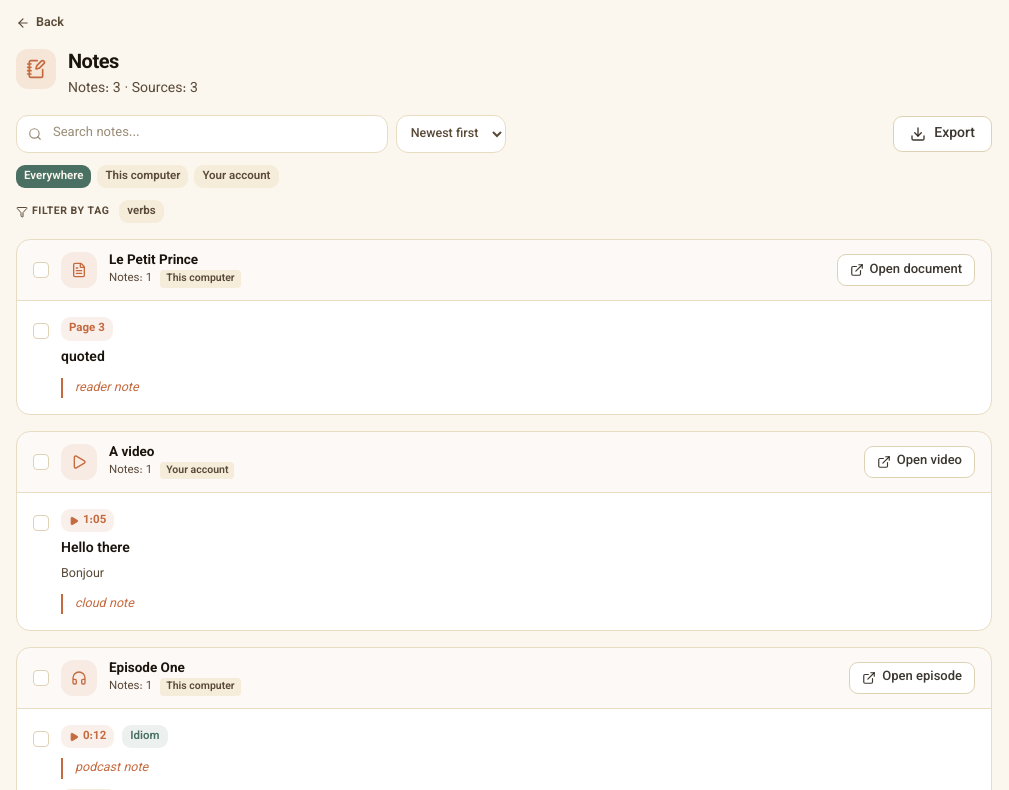
notes page › searches and filters by tag
Expected: the text "Episode One" is shown, [109,658,185,679]
Click the button "verbs": (142, 212) [119,200,164,223]
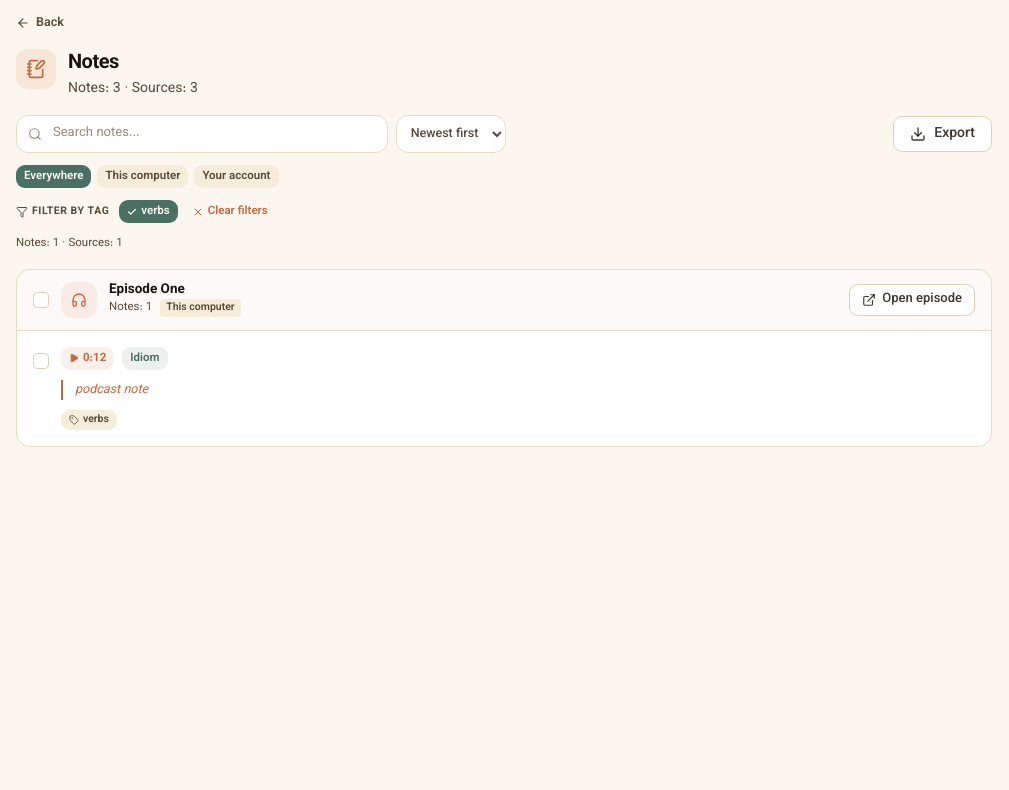
Expected: the text "Episode One" is shown, [109,279,185,300]
Expected: the text "Le Petit Prince" is gone
Click the button "Clear filters": (230, 212) [184,200,276,223]
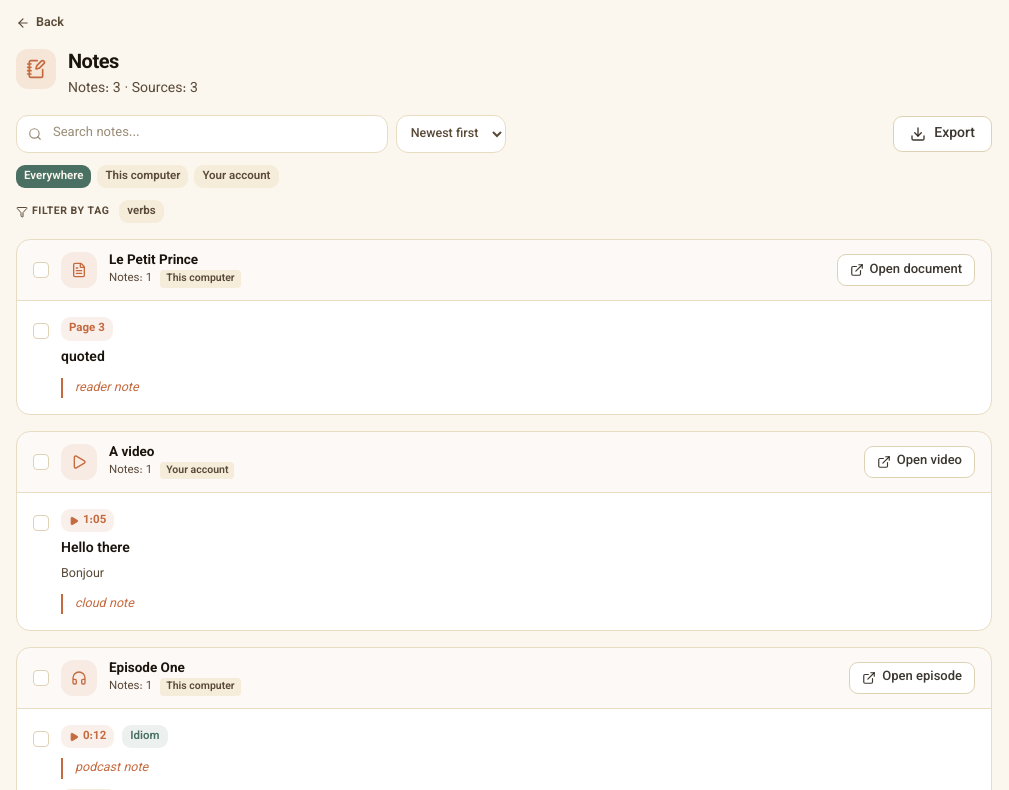
In the field with placeholder "Search notes...": (202, 134) [16,115,388,152], type "bonjour"
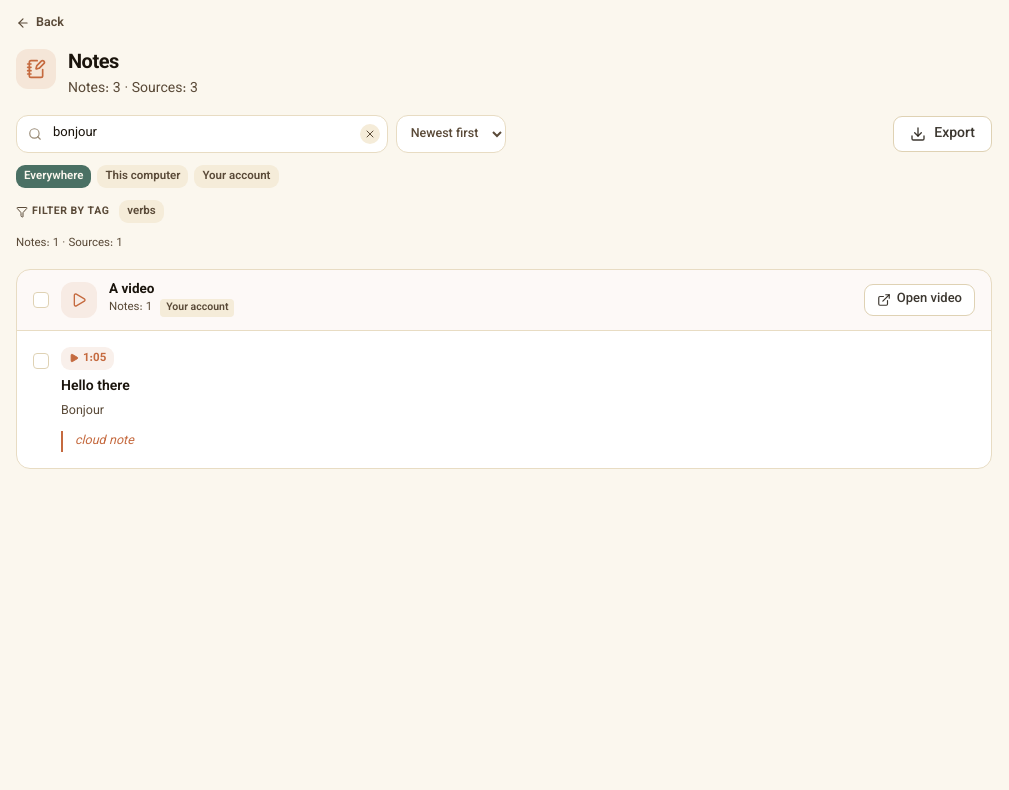
Expected: the text "A video" is shown, [109,279,154,300]
Expected: the text "Episode One" is gone
